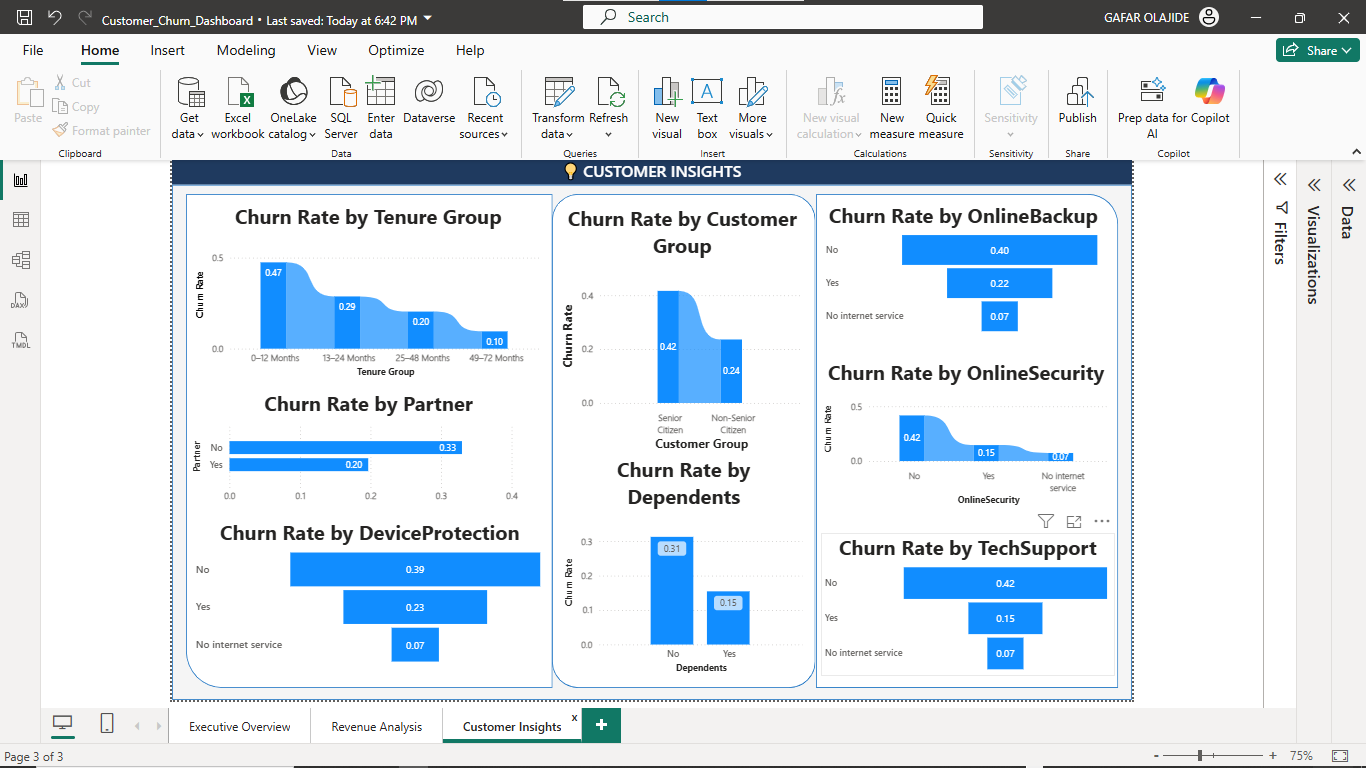

What the dashboard file says about the page in this screenshot:
{"tool":"powerbi","page":{"name":"Customer Insights","canvas":[1280,720],"ordinal":2},"visuals":[{"type":"shape","title":"💡 CUSTOMER INSIGHTS","box":[0,0,1280,720],"z":0},{"type":"shape","box":[858.6,45.7,402.9,658.6],"z":1000},{"type":"shape","box":[18.6,45.7,488.6,658.6],"z":2000},{"type":"shape","box":[507.1,45.7,351.4,658.6],"z":3000},{"type":"ribbonChart","fields":{"Category":["telecom_customer_churn.Customer Group"],"Y":["telecom_customer_churn.Churn Rate"]},"box":[514.3,58.6,331.4,334.3],"z":4000},{"type":"lineStackedColumnComboChart","fields":{"Category":["telecom_customer_churn.Dependents"],"Y":["telecom_customer_churn.Churn Rate"]},"box":[518.6,392.9,327.1,295.7],"z":5000},{"type":"ribbonChart","fields":{"Category":["telecom_customer_churn.OnlineSecurity"],"Y":["telecom_customer_churn.Churn Rate"]},"box":[865.7,264.3,387.1,201.4],"z":6000},{"type":"funnel","fields":{"Category":["telecom_customer_churn.TechSupport"],"Y":["telecom_customer_churn.Churn Rate"]},"box":[865.7,497.1,391.4,191.4],"z":7000},{"type":"funnel","fields":{"Category":["telecom_customer_churn.OnlineBackup"],"Y":["telecom_customer_churn.Churn Rate"]},"box":[866.1,55,377.1,183.1],"z":8000},{"type":"ribbonChart","title":"Churn Rate  by Tenure Group","fields":{"Category":["telecom_customer_churn.Tenure Group"],"Y":["telecom_customer_churn.Churn Rate"]},"box":[27.1,55.7,470,238.6],"z":9000},{"type":"clusteredBarChart","fields":{"Category":["telecom_customer_churn.Partner"],"Y":["telecom_customer_churn.Churn Rate"]},"box":[22.9,305.7,478.6,160],"z":10000},{"type":"funnel","fields":{"Category":["telecom_customer_churn.DeviceProtection"],"Y":["telecom_customer_churn.Churn Rate"]},"box":[27.1,477.1,474.3,201.4],"z":11000}]}

Visuals, with their boxes on the page's 1280x720 design canvas (x1, y1, x2, y2). These are canvas units, not pixel positions in the 1366x768 screenshot, which may show the page scaled, cropped or inside an application window:
"💡 CUSTOMER INSIGHTS" shape: x1=0, y1=0, x2=1280, y2=720
shape: x1=859, y1=46, x2=1262, y2=704
shape: x1=19, y1=46, x2=507, y2=704
shape: x1=507, y1=46, x2=858, y2=704
ribbonChart - telecom_customer_churn.Customer Group x telecom_customer_churn.Churn Rate: x1=514, y1=59, x2=846, y2=393
lineStackedColumnComboChart - telecom_customer_churn.Dependents x telecom_customer_churn.Churn Rate: x1=519, y1=393, x2=846, y2=689
ribbonChart - telecom_customer_churn.OnlineSecurity x telecom_customer_churn.Churn Rate: x1=866, y1=264, x2=1253, y2=466
funnel - telecom_customer_churn.TechSupport x telecom_customer_churn.Churn Rate: x1=866, y1=497, x2=1257, y2=688
funnel - telecom_customer_churn.OnlineBackup x telecom_customer_churn.Churn Rate: x1=866, y1=55, x2=1243, y2=238
"Churn Rate  by Tenure Group" ribbonChart: x1=27, y1=56, x2=497, y2=294
clusteredBarChart - telecom_customer_churn.Partner x telecom_customer_churn.Churn Rate: x1=23, y1=306, x2=502, y2=466
funnel - telecom_customer_churn.DeviceProtection x telecom_customer_churn.Churn Rate: x1=27, y1=477, x2=501, y2=678
